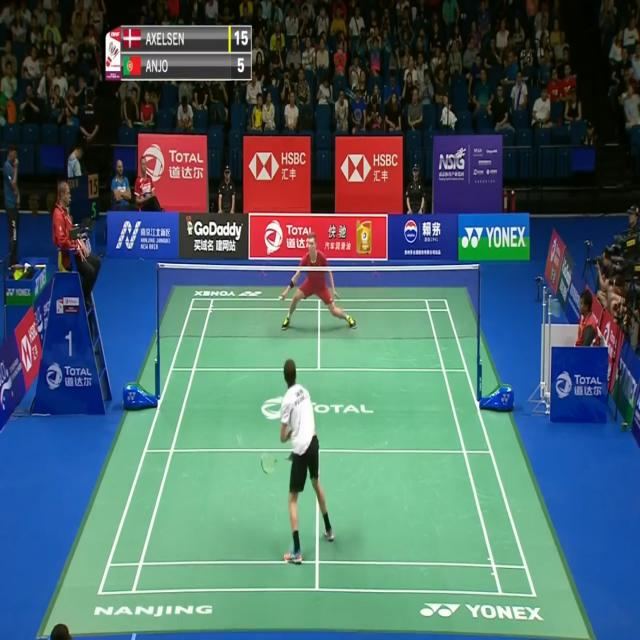Player1: (258, 354, 338, 570)
Player2: (270, 230, 360, 334)
